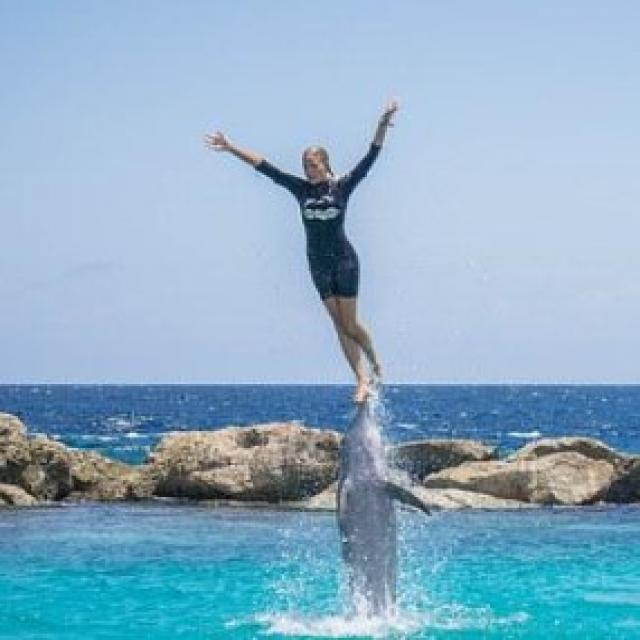Dolphin: (302, 388, 441, 640)
